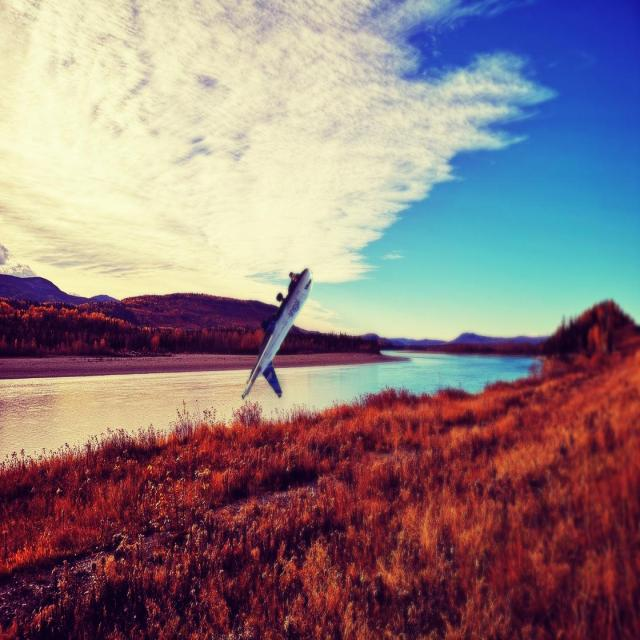airplane: (241, 267, 312, 399)
